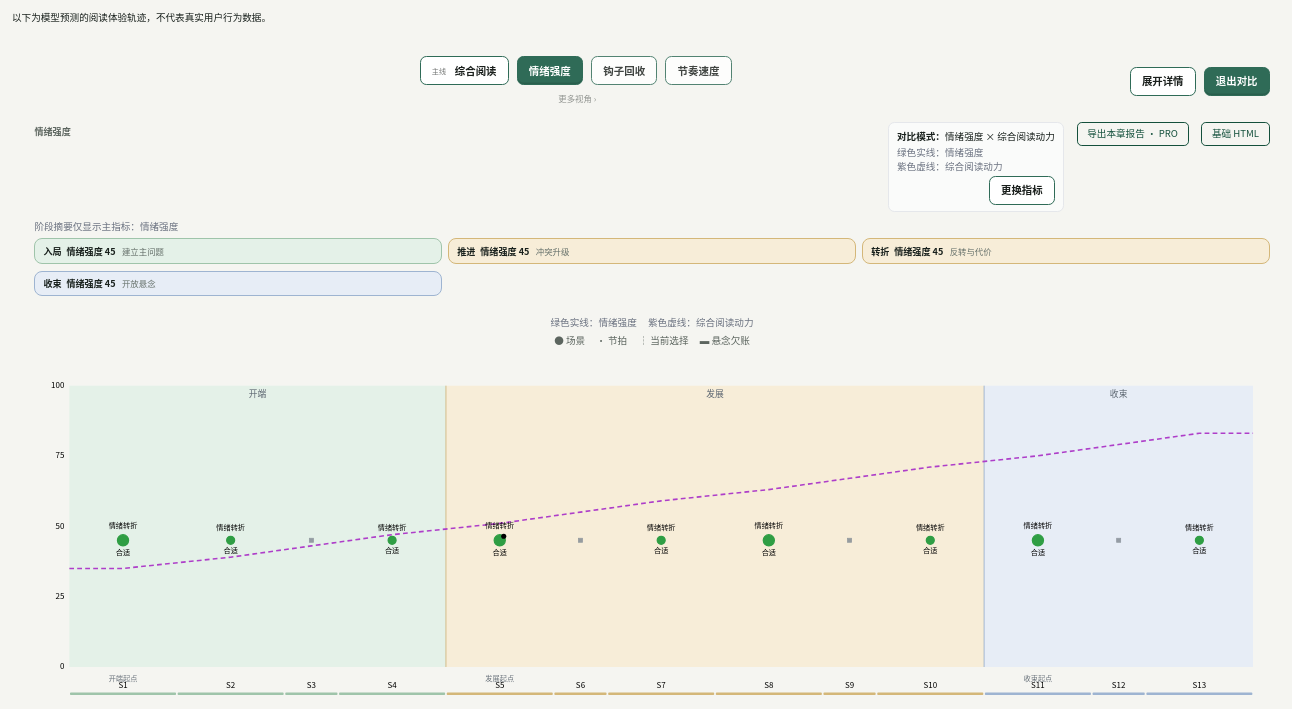
对比分析 mode + unified topbar › auto-exits when switching to the same primary as compare
This screenshot has width=1292, height=709.
Expected: the message "对比模式：情绪强度 × 综合阅读动力 绿色实线：情绪强度 紫色虚线：综合阅读动力 更换指标" is shown, x1=888 y1=122 x2=1064 y2=212
Step 1. Click the radio button with test id "journey-lens-composite" → (464, 71), box x1=420 y1=56 x2=509 y2=85
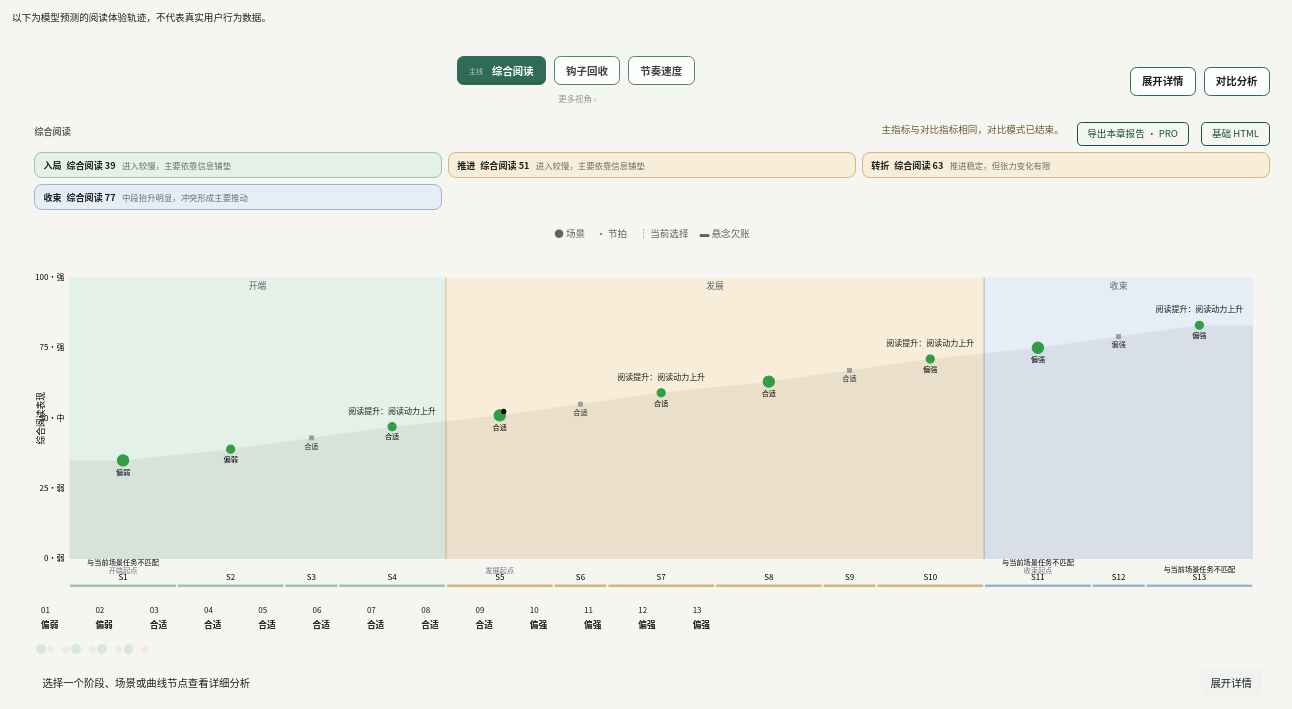
Expected: the message with test id "journey-comparison-toolbar" is gone
Expected: the text with test id "journey-compare-live" shows "对比模式已结束", x1=882 y1=122 x2=1064 y2=136
